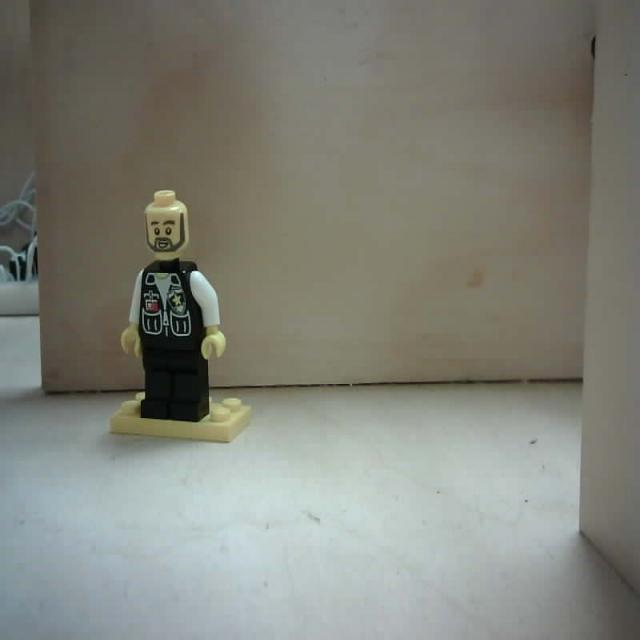Lego-People: (104, 182, 261, 452)
